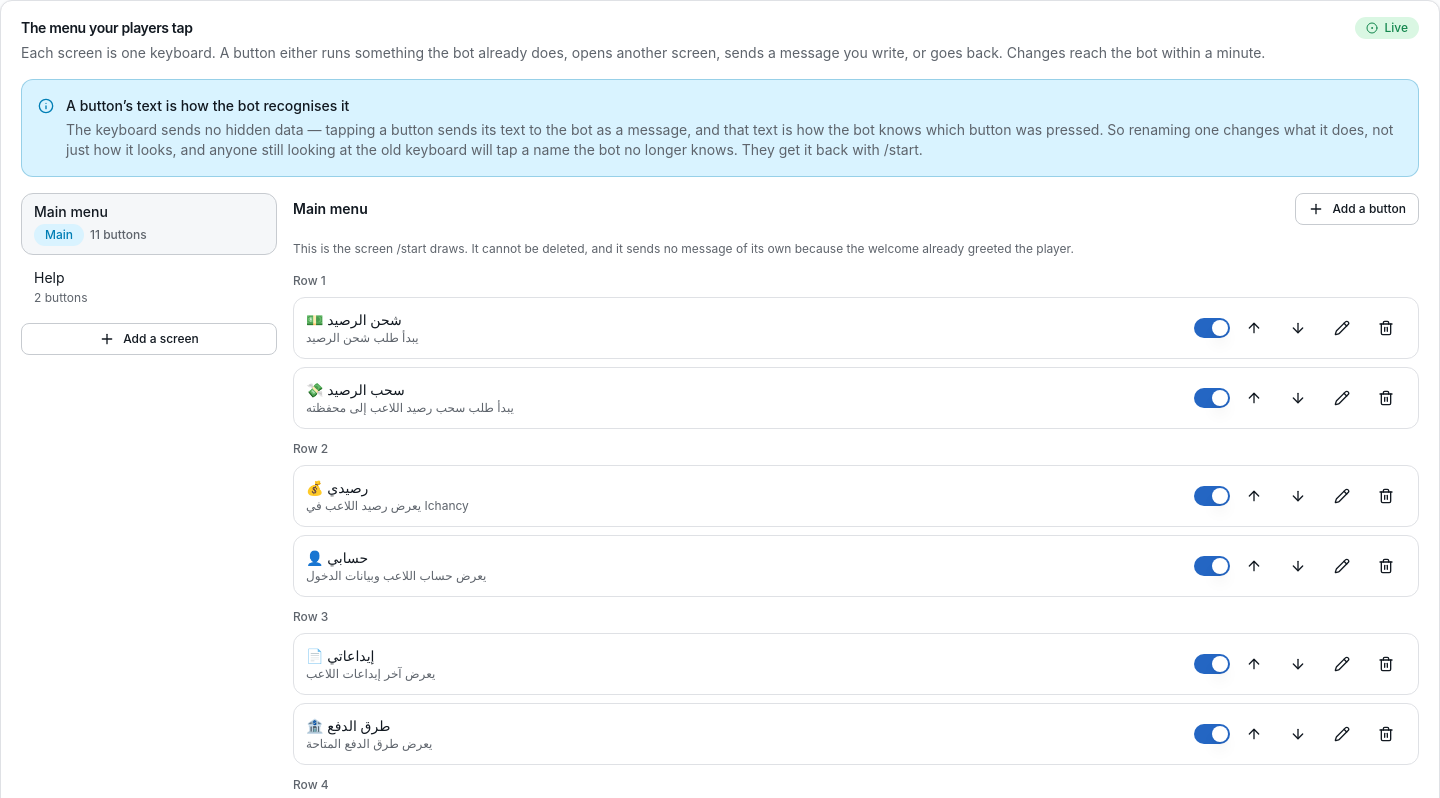
Test case: the screens and their keyboards › opens another screen and explains its message and back buttons
Click the button "Help 2 buttons" at (149, 287), box top-left (21, 259), bottom-right (277, 315)
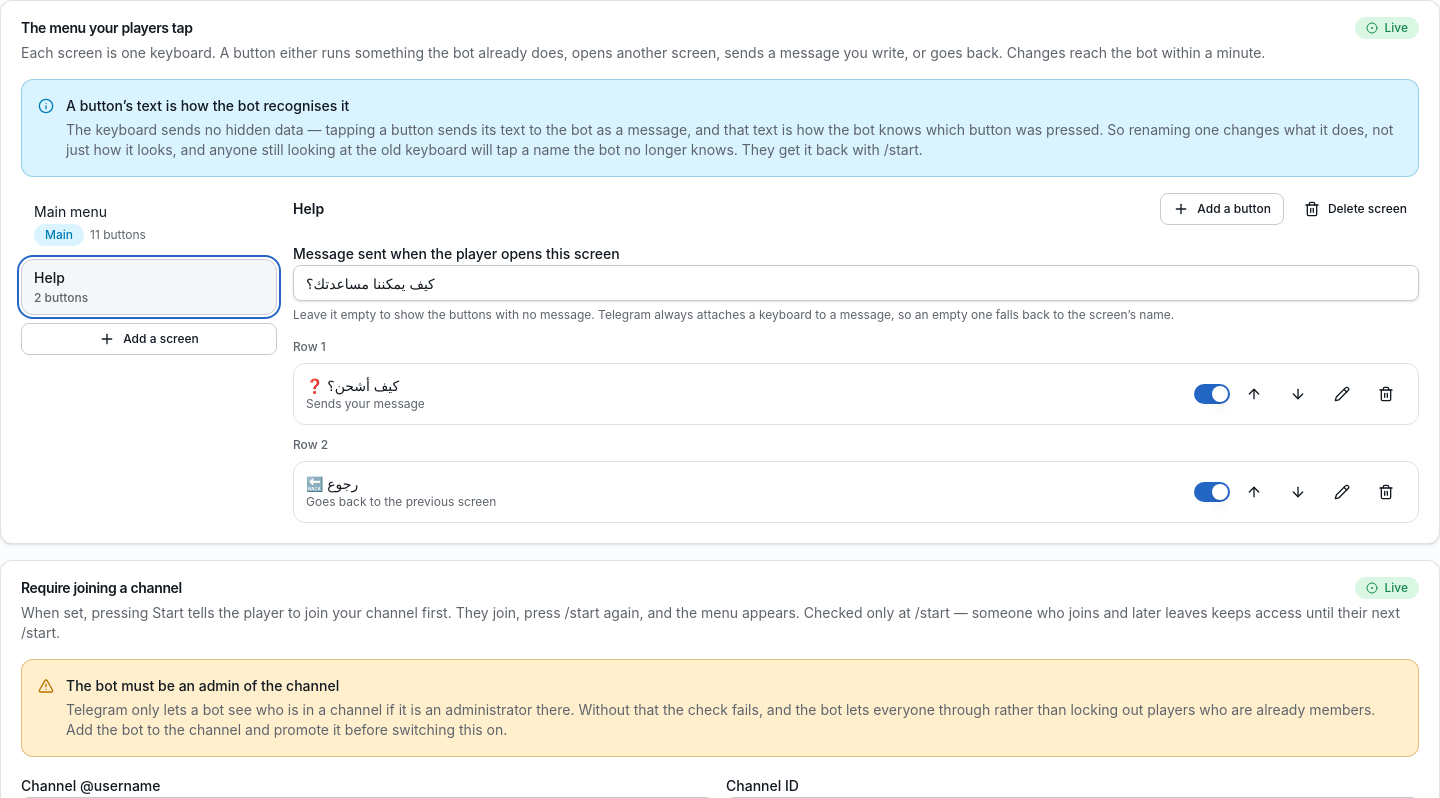
Expected: the field labelled "Message sent when the player opens this screen" holds "كيف يمكننا مساعدتك؟", top-left (293, 265), bottom-right (1419, 301)
Expected: the text "Sends your message" is shown, top-left (306, 396), bottom-right (425, 411)
Expected: the text "Goes back to the previous screen" is shown, top-left (306, 494), bottom-right (496, 509)
